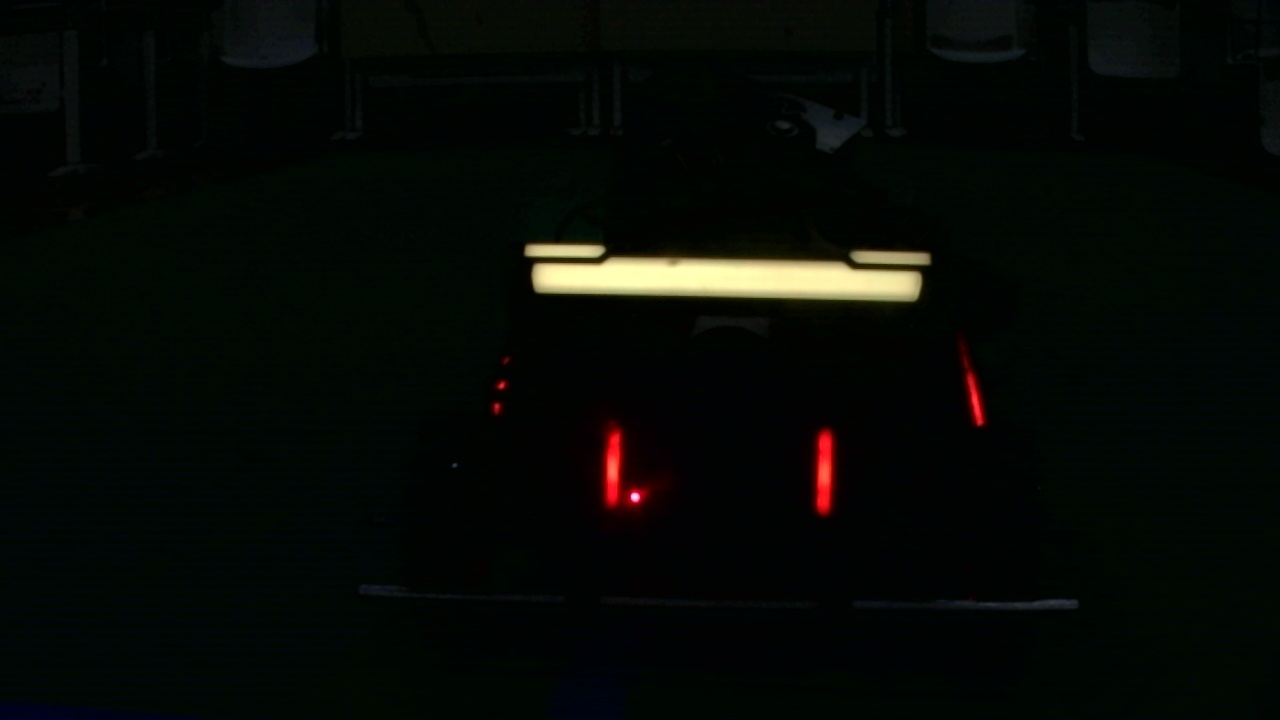lamp: (810, 428, 832, 518), (605, 428, 622, 512)
pair1: (606, 432, 833, 517)
